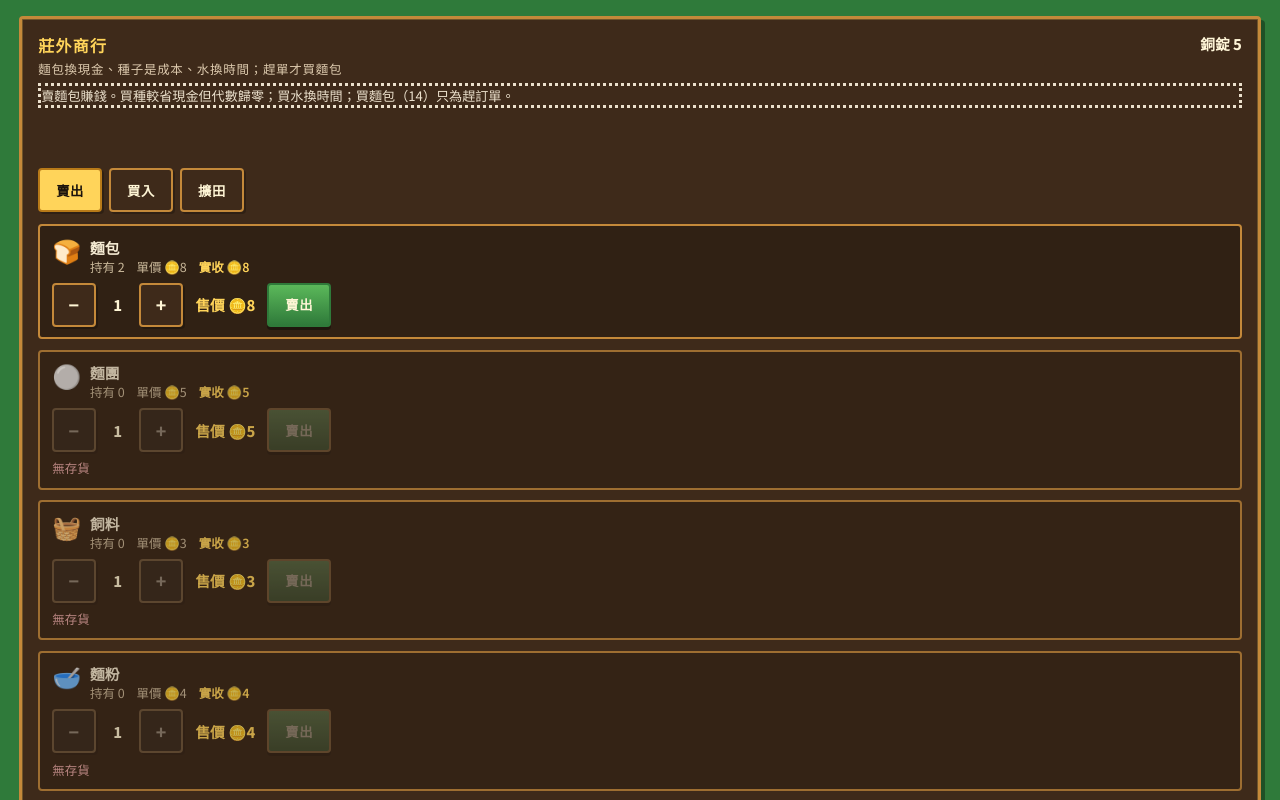
it: MarketPanel › disables expand when blocked
What coordinates should you click on to do the following:
click the tab with test id "market-tab-expand"
I would click on:
 (212, 190)
Its box is [180,168,244,212].
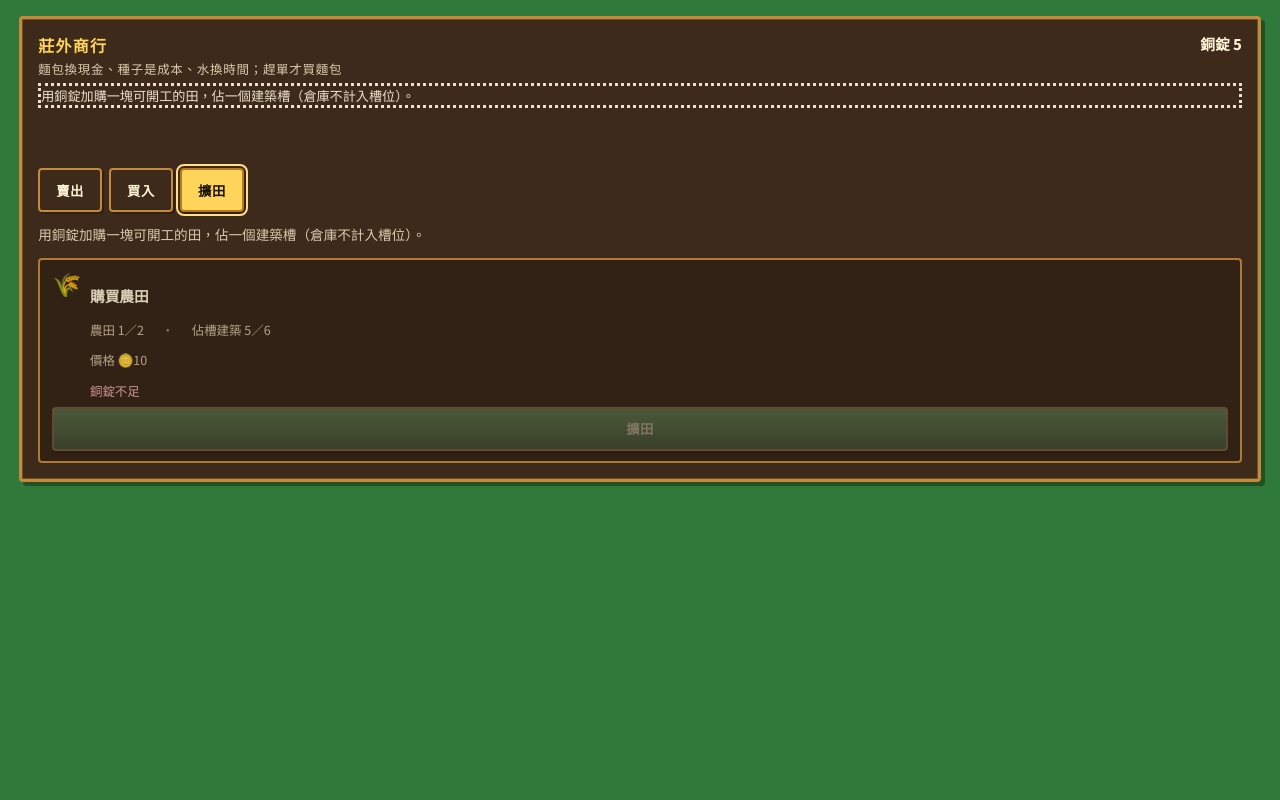
expect the text with test id "land-purchase-block-reason" reads "銅錠不足": met, box [90,382,140,400]
expect the button with test id "land-purchase-cta" is disabled: met, box [52,407,1228,451]
